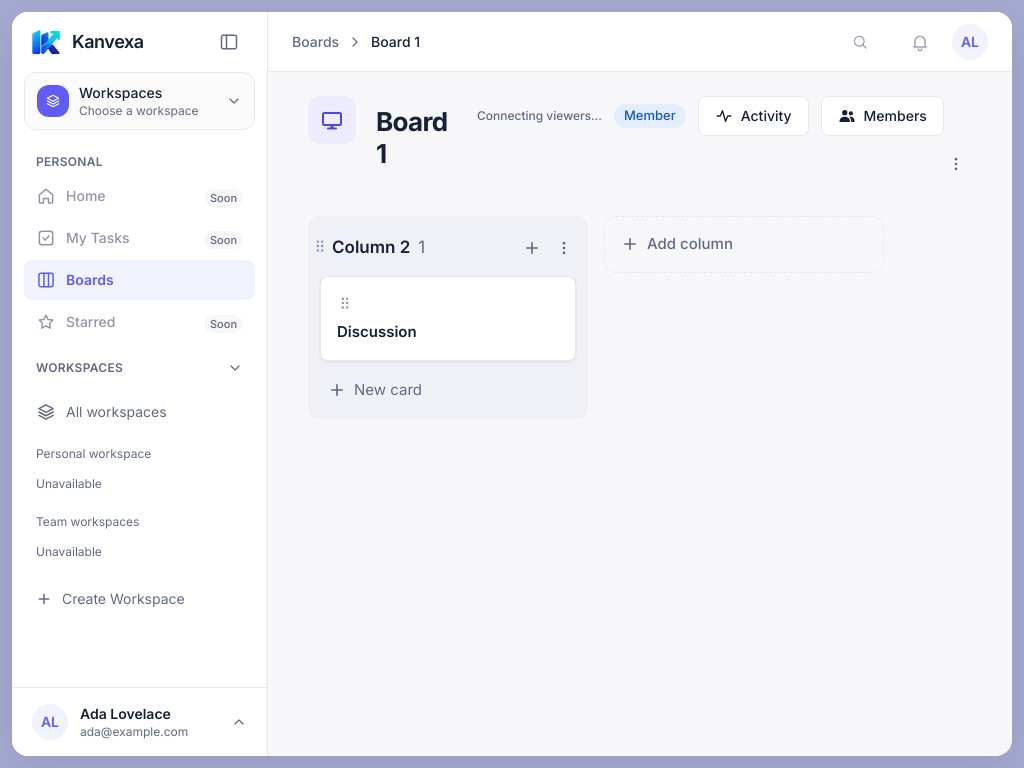
Test: card comments › allows a MEMBER to write from an empty list
Click the button "Discussion" at (377, 332), box 337,321 -> 417,344
(page scrolled)
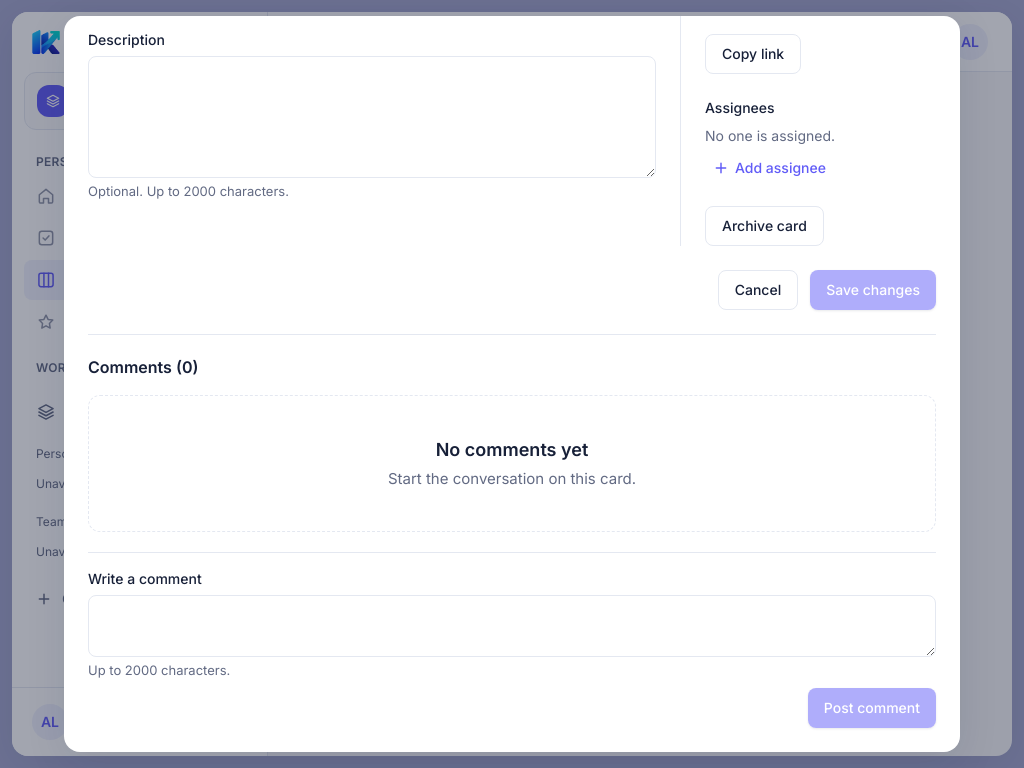
Expected: the heading "No comments yet" is shown, 436,436 -> 588,464
Expected: the button "Post comment" is shown, 808,688 -> 936,728
